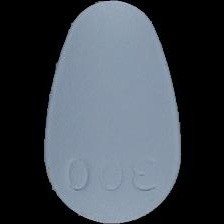53808-0810: (0, 0, 224, 224)
